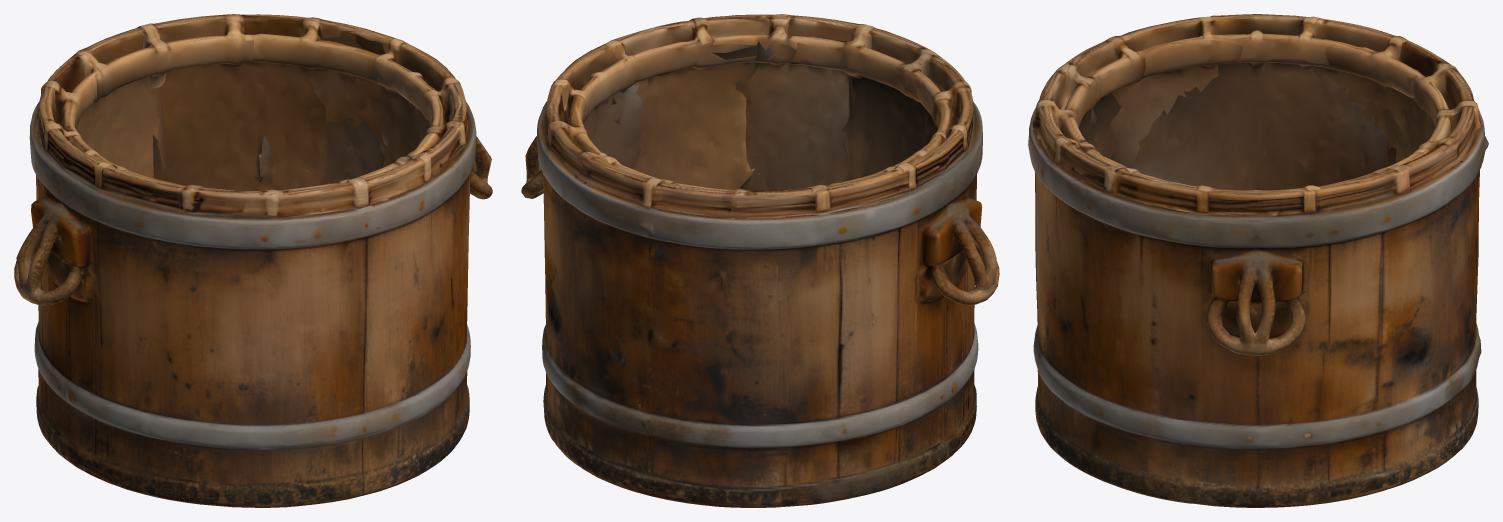
The model's file is wooden-steamer.glb.
The picture shows the model from 3 angles, left to right: view 1: azimuth 30°, elevation 25°; view 2: azimuth 150°, elevation 25°; view 3: azimuth 270°, elevation 25°; orthographic projection.
Visible parts, largest first — view 1: texture_pbr_v128; view 2: texture_pbr_v128; view 3: texture_pbr_v128.
Boxes of the visible parts, x1,y1,x2,y2 form: texture_pbr_v128: (14,14,492,507); texture_pbr_v128: (521,14,999,507); texture_pbr_v128: (1028,14,1488,507).
Size of the model in its own units: 1.15 by 0.7507 by 0.9892.
Materials: 1 (1 with a texture image).
